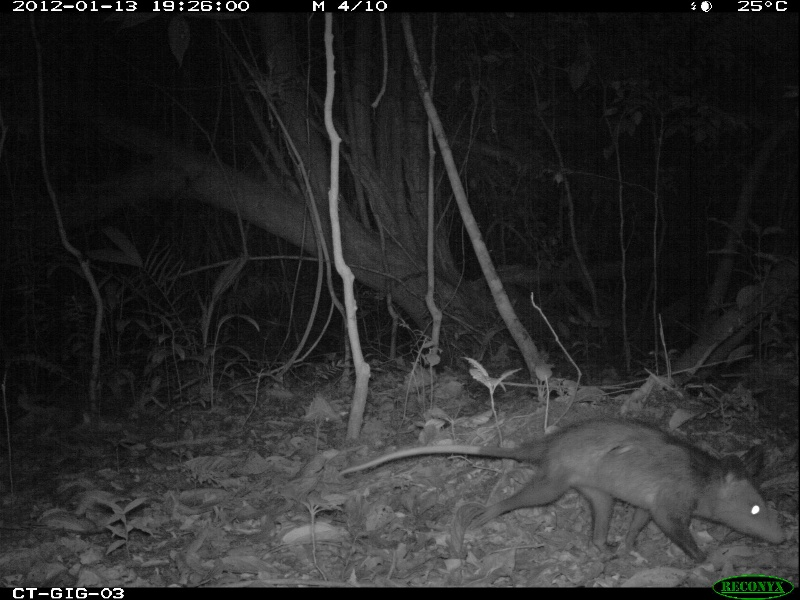opossum: (340, 415, 791, 564)
